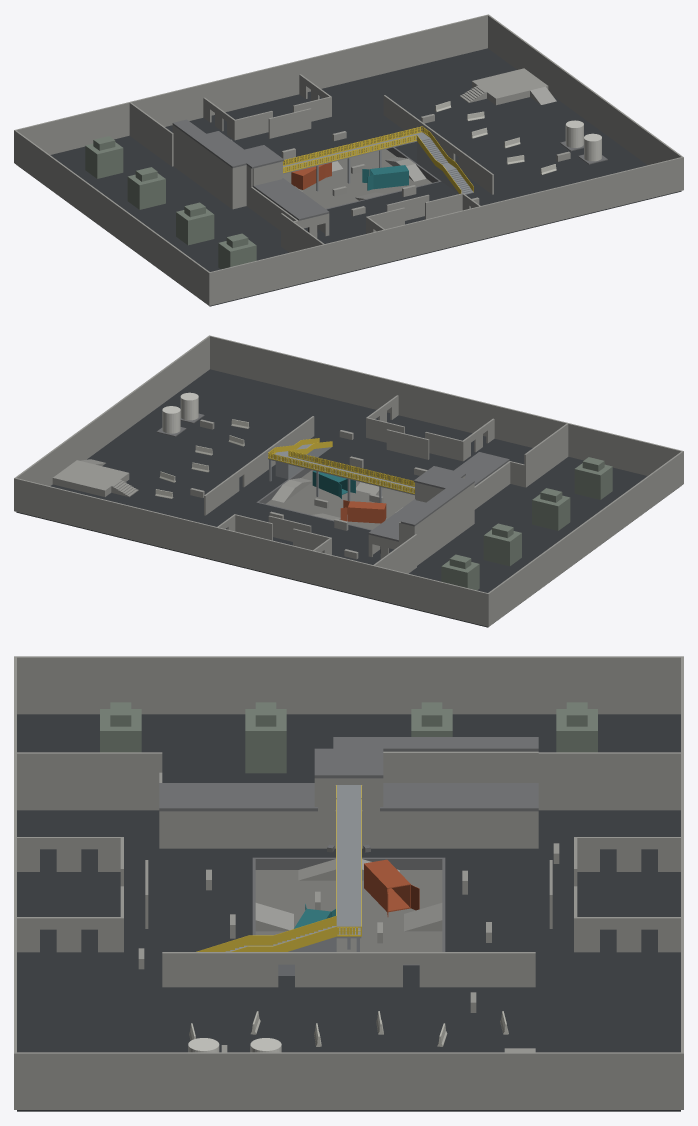
The model's file is map_substation.glb.
3 views of the same model, one above another, from view 1: azimuth 30°, elevation 25°; view 2: azimuth 150°, elevation 25°; view 3: azimuth 270°, elevation 25° (orthographic). The views are drawn at different scales.
Visible parts, largest first — view 1: Wall_Perimeter_S-col, Ground_North-col, Wall_Perimeter_N-col, Ground_South-col, Wall_Perimeter_W-col, Ground_East-col, Wall_Perimeter_E-col, Ground_West-col, Pit_Floor-col, Wall_StairHall_West-col, Wall_Divider_East-col, Catwalk_Railing-col (+25 smaller); view 2: Ground_South-col, Wall_Perimeter_N-col, Wall_Perimeter_S-col, Ground_North-col, Ground_East-col, Wall_Perimeter_W-col, Wall_Perimeter_E-col, Ground_West-col, Pit_Floor-col, Wall_StairHall_West-col, Wall_Divider_East-col, Catwalk_Railing-col (+24 smaller); view 3: Ground_South-col, Ground_North-col, Wall_Perimeter_E-col, Wall_Perimeter_W-col, Ground_East-col, Wall_Divider_East-col, Wall_Fence_HVYard_S-col, Wall_Fence_HVYard_N-col, Pit_Floor-col, Ground_West-col, Wall_Bunker_East_N-col, Wall_Bunker_East_S-col (+24 smaller).
Boxes of the visible parts, <box> form: Wall_Perimeter_S-col: <box>208,157,683,305</box>; Ground_North-col: <box>24,48,556,205</box>; Wall_Perimeter_N-col: <box>14,14,488,163</box>; Ground_South-col: <box>148,139,681,306</box>; Wall_Perimeter_W-col: <box>15,130,209,304</box>; Ground_East-col: <box>395,98,612,175</box>; Wall_Perimeter_E-col: <box>488,15,682,164</box>; Ground_West-col: <box>97,185,269,246</box>; Pit_Floor-col: <box>283,149,431,208</box>; Wall_StairHall_West-col: <box>173,125,233,208</box>; Wall_Divider_East-col: <box>383,95,493,194</box>; Catwalk_Railing-col: <box>283,126,429,173</box>; Ground_South-col: <box>141,369,673,526</box>; Wall_Perimeter_N-col: <box>14,478,489,626</box>; Wall_Perimeter_S-col: <box>209,335,683,484</box>; Ground_North-col: <box>16,465,549,627</box>; Ground_East-col: <box>87,419,287,502</box>; Wall_Perimeter_W-col: <box>488,451,682,625</box>; Wall_Perimeter_E-col: <box>15,336,209,485</box>; Ground_West-col: <box>442,503,600,567</box>; Pit_Floor-col: <box>266,470,414,529</box>; Wall_StairHall_West-col: <box>414,483,473,565</box>; Wall_Divider_East-col: <box>204,416,314,515</box>; Catwalk_Railing-col: <box>268,447,414,494</box>; Ground_South-col: <box>17,714,252,1111</box>; Ground_North-col: <box>445,714,680,1111</box>; Wall_Perimeter_E-col: <box>17,1052,680,1109</box>; Wall_Perimeter_W-col: <box>17,656,680,714</box>; Ground_East-col: <box>252,965,445,1111</box>; Wall_Divider_East-col: <box>162,952,535,987</box>; Wall_Fence_HVYard_S-col: <box>17,752,162,810</box>; Wall_Fence_HVYard_N-col: <box>538,752,680,810</box>; Pit_Floor-col: <box>255,870,442,951</box>; Ground_West-col: <box>252,714,445,857</box>; Wall_Bunker_East_N-col: <box>380,811,538,848</box>; Wall_Bunker_East_S-col: <box>159,811,317,848</box>.
Size of what is drawn, in the model's own units: 90.6 by 9.3 by 64.6.
